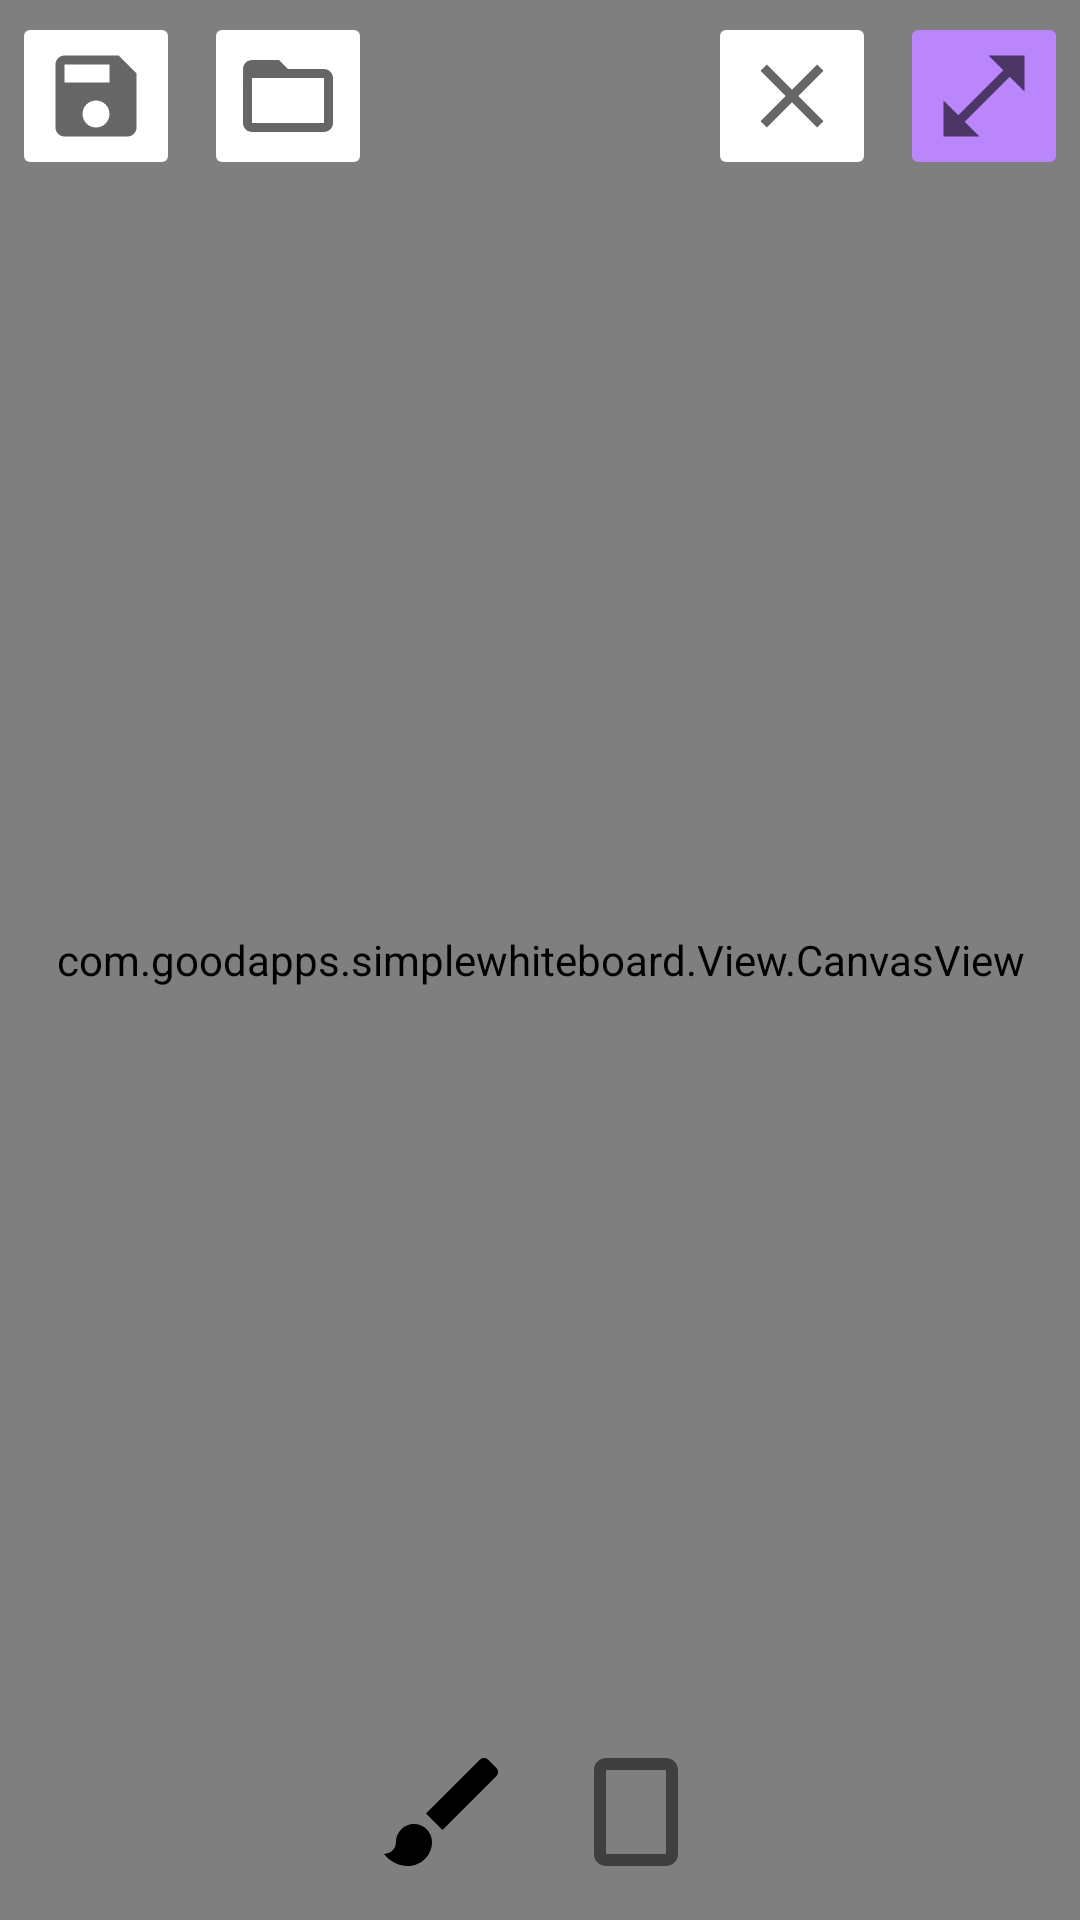

Screen size 1080px×1920px. Icon name, then its center in pixels as point (x, y):
Button Save: point (96, 96)
clear: point (792, 96)
folder open: point (288, 96)
